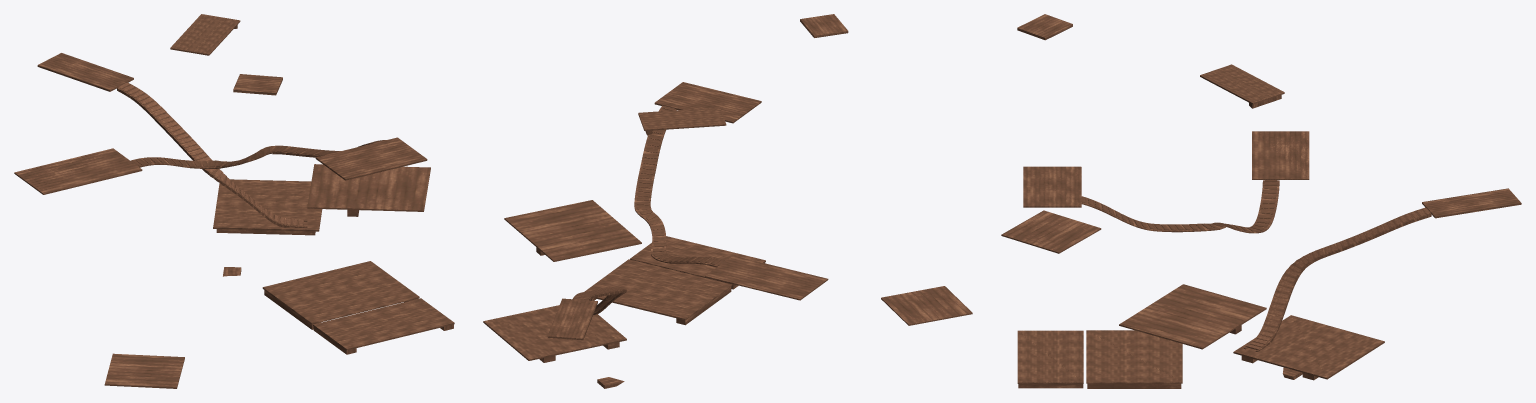
File: field_spring_woodfloor_grp.fbx
3 renders of one model, left to right at view 1: azimuth 30°, elevation 25°; view 2: azimuth 150°, elevation 25°; view 3: azimuth 270°, elevation 25°, orthographic. The views are drawn at different scales.
Visible parts, largest first — view 1: field_spring_woodfloor2, field_spring_woodfloor1, field_spring_woodfloor4, field_spring_road, field_spring_woodfloor5, field_spring_woodfloor7, field_spring_woodfloor3, field_spring_woodfloor6, field_spring_woodfloor8, field_spring_woodfloor9; view 2: field_spring_woodfloor2, field_spring_woodfloor4, field_spring_woodfloor1, field_spring_road, field_spring_woodfloor5, field_spring_woodfloor3, field_spring_woodfloor7, field_spring_woodfloor8, field_spring_woodfloor6, field_spring_woodfloor9; view 3: field_spring_woodfloor2, field_spring_road, field_spring_woodfloor4, field_spring_woodfloor1, field_spring_woodfloor5, field_spring_woodfloor7, field_spring_woodfloor3, field_spring_woodfloor8, field_spring_woodfloor6, field_spring_woodfloor9.
Part boxes in pixels (bbox=[...]): field_spring_woodfloor2: bbox=[262, 261, 454, 354]; field_spring_woodfloor1: bbox=[213, 179, 322, 276]; field_spring_woodfloor4: bbox=[307, 164, 430, 216]; field_spring_road: bbox=[117, 82, 385, 227]; field_spring_woodfloor5: bbox=[14, 148, 142, 194]; field_spring_woodfloor7: bbox=[315, 137, 427, 180]; field_spring_woodfloor3: bbox=[104, 353, 184, 388]; field_spring_woodfloor6: bbox=[37, 53, 133, 91]; field_spring_woodfloor8: bbox=[170, 14, 240, 55]; field_spring_woodfloor9: bbox=[233, 74, 282, 95]; field_spring_woodfloor2: bbox=[584, 236, 765, 325]; field_spring_woodfloor4: bbox=[504, 200, 641, 261]; field_spring_woodfloor1: bbox=[483, 305, 626, 388]; field_spring_road: bbox=[572, 105, 725, 314]; field_spring_woodfloor5: bbox=[705, 255, 828, 300]; field_spring_woodfloor3: bbox=[881, 286, 972, 325]; field_spring_woodfloor7: bbox=[654, 82, 761, 123]; field_spring_woodfloor8: bbox=[638, 107, 726, 135]; field_spring_woodfloor6: bbox=[547, 298, 597, 340]; field_spring_woodfloor9: bbox=[800, 14, 848, 37]; field_spring_woodfloor2: bbox=[1017, 330, 1182, 388]; field_spring_road: bbox=[1081, 180, 1431, 351]; field_spring_woodfloor4: bbox=[1119, 284, 1266, 349]; field_spring_woodfloor1: bbox=[1233, 315, 1384, 380]; field_spring_woodfloor5: bbox=[1252, 131, 1309, 179]; field_spring_woodfloor7: bbox=[1023, 166, 1081, 207]; field_spring_woodfloor3: bbox=[1001, 210, 1101, 253]; field_spring_woodfloor8: bbox=[1200, 64, 1284, 108]; field_spring_woodfloor6: bbox=[1422, 188, 1521, 218]; field_spring_woodfloor9: bbox=[1017, 14, 1072, 40].
Size of the model in its own units: 3031 by 2184 by 3413.
Materials: 1 (1 with a texture image).
